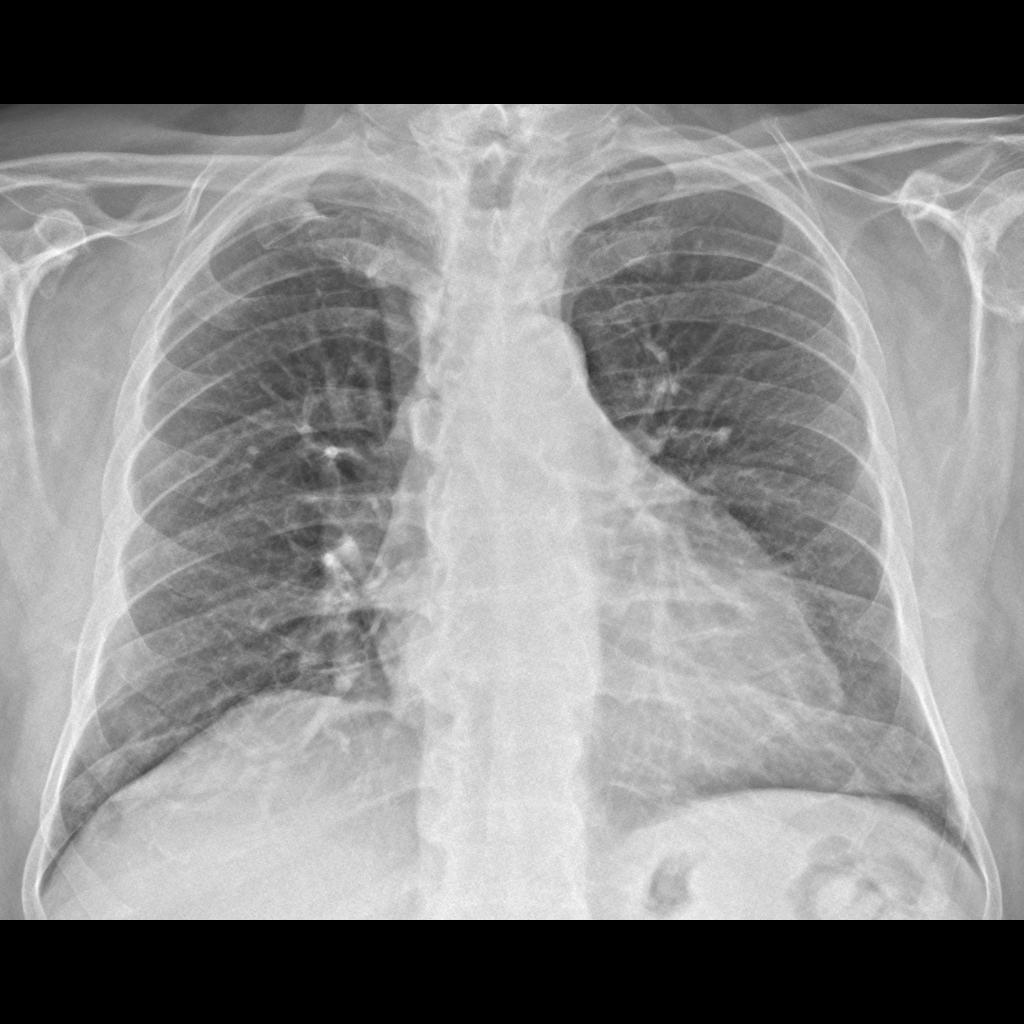Nodule: (57, 763, 104, 821)
